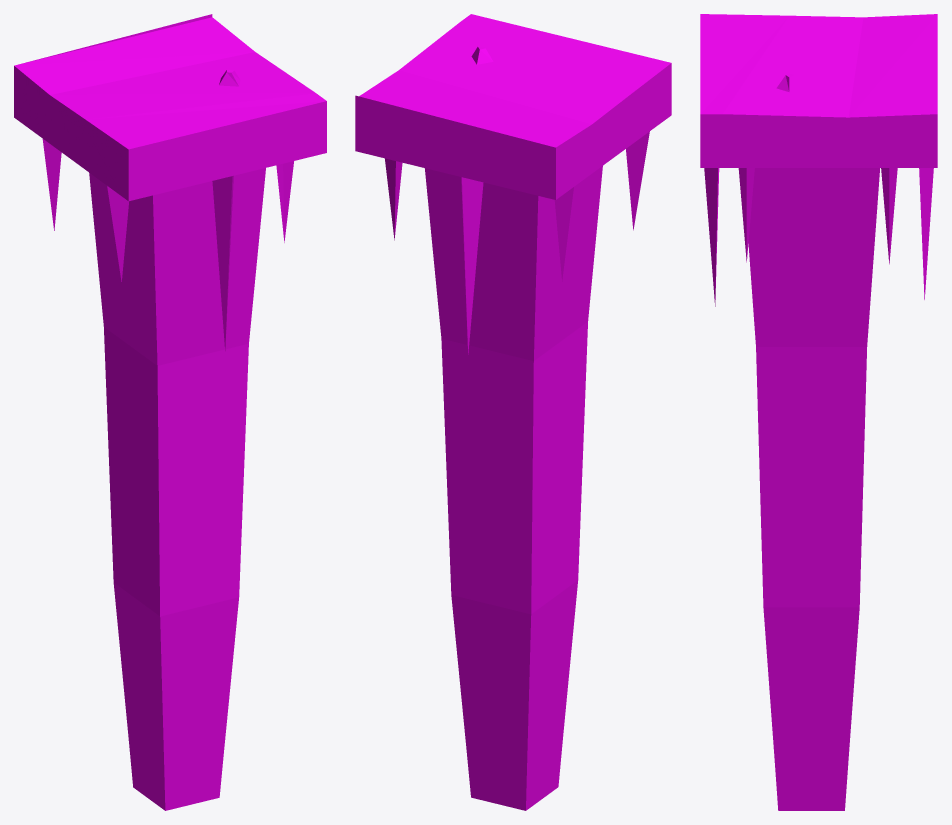
The model's file is bridge section corner.obj.
The picture shows the model from 3 angles, left to right: view 1: azimuth 30°, elevation 25°; view 2: azimuth 150°, elevation 25°; view 3: azimuth 270°, elevation 25°; orthographic projection. The views are drawn at different scales.
Parts seen in each view (by area): view 1: bridge section corner_back; view 2: bridge section corner_back; view 3: bridge section corner_back.
Part boxes in pixels (left/top/right/bottom): bridge section corner_back: left=14, top=14, right=326, bottom=810; bridge section corner_back: left=355, top=14, right=671, bottom=810; bridge section corner_back: left=700, top=14, right=937, bottom=810.
Size of the model in its own units: 1.28 by 4.43 by 1.28.
